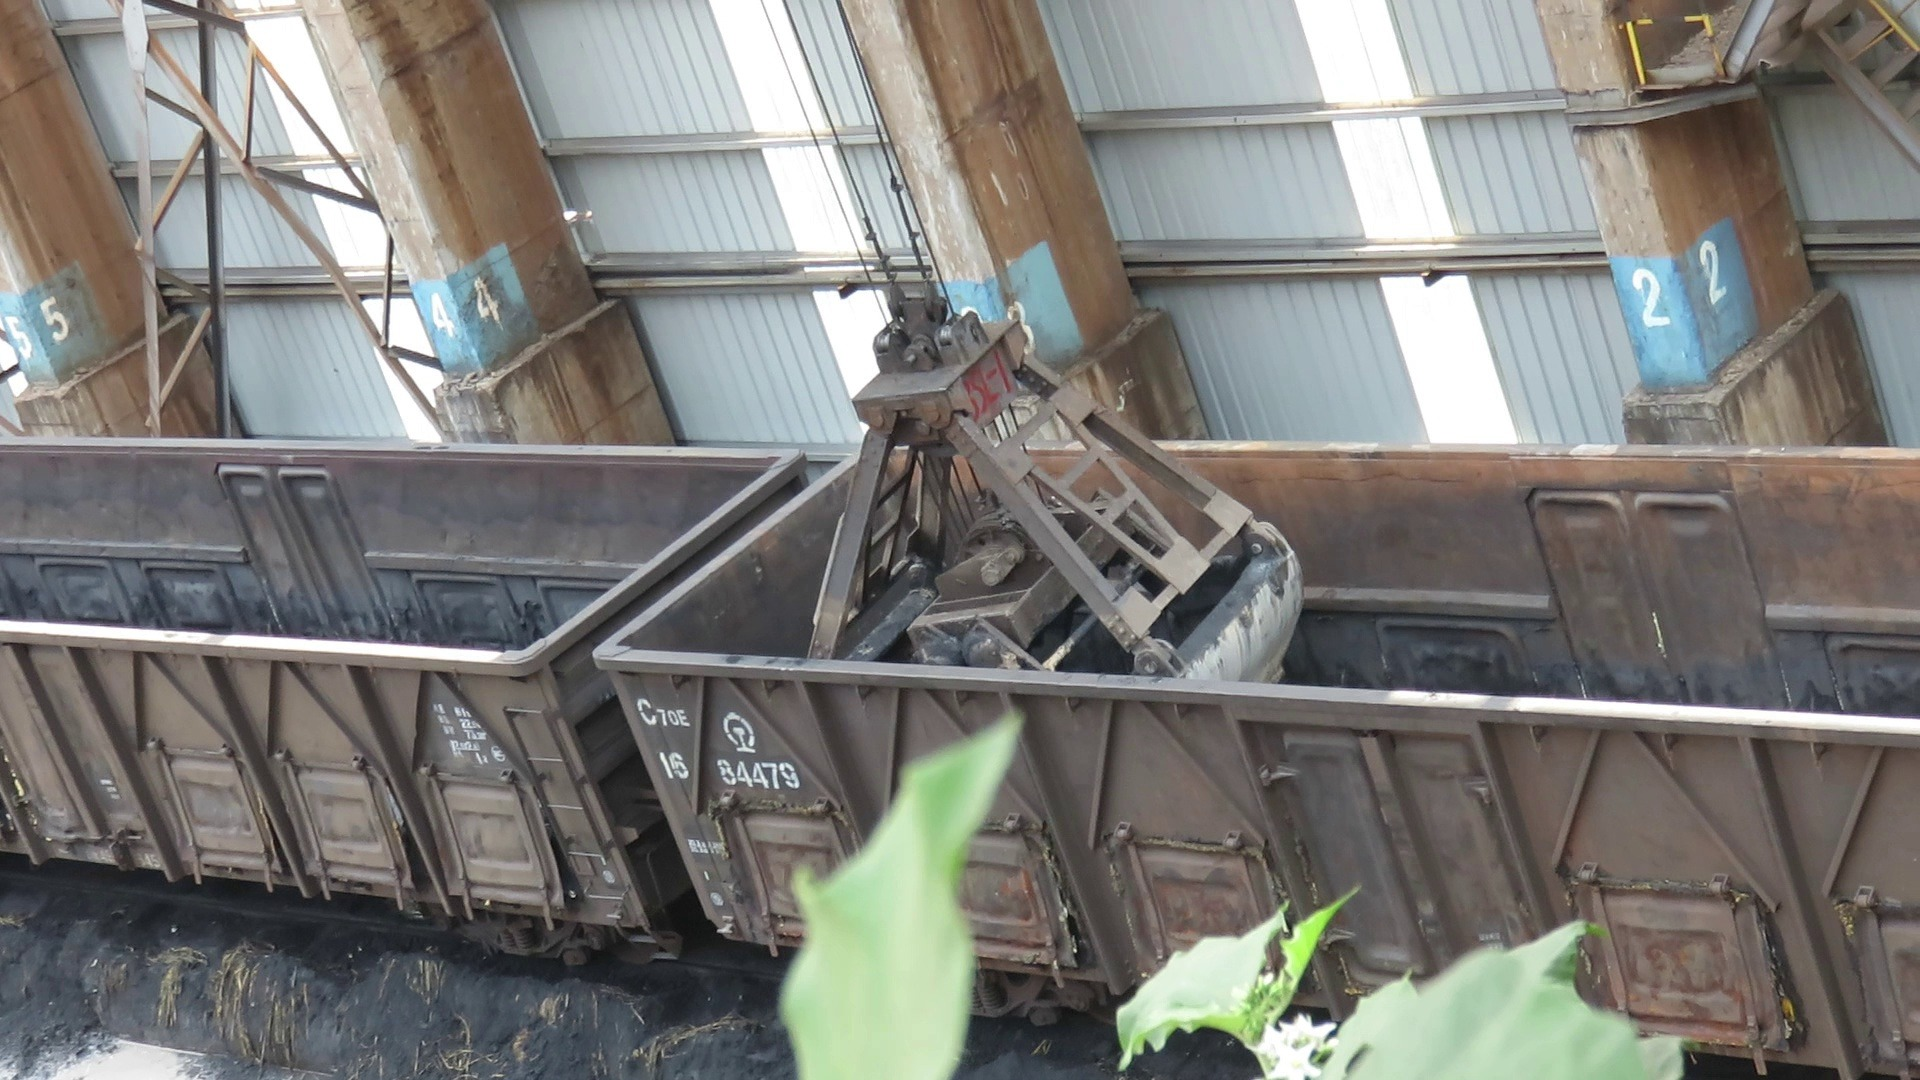grab: (798, 289, 1311, 694)
